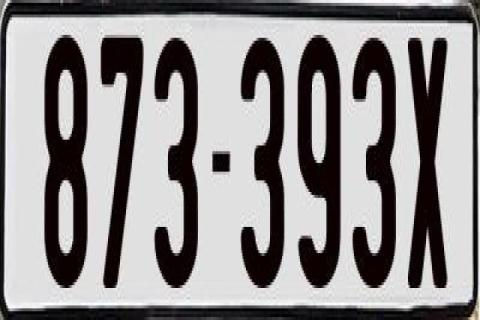0: (352, 35, 402, 303), (240, 35, 290, 288), (100, 38, 146, 297), (42, 27, 88, 280), (297, 32, 341, 291), (154, 29, 198, 279)
X: (408, 32, 448, 296)
